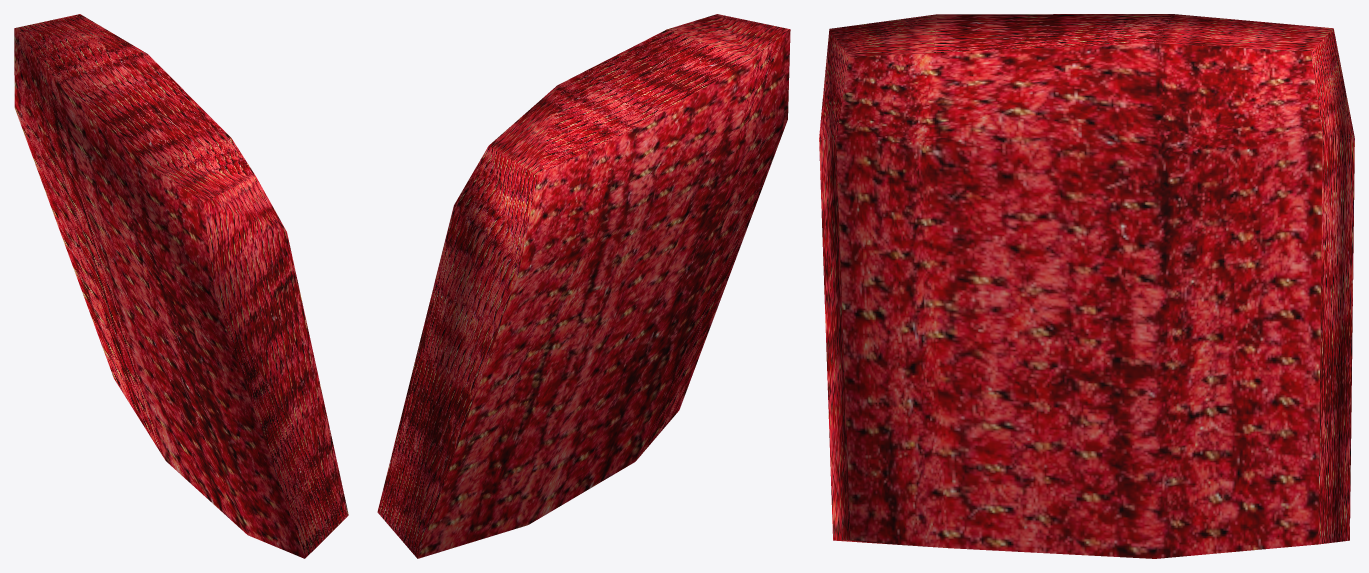
Rendered from Obj_vid_08_coixi_2.fbx.
3 views of the same model, side by side, from view 1: azimuth 30°, elevation 25°; view 2: azimuth 150°, elevation 25°; view 3: azimuth 270°, elevation 25° (orthographic). The views are drawn at different scales.
Visible parts, largest first — view 1: Obj_vid_08_coixi_2; view 2: Obj_vid_08_coixi_2; view 3: Obj_vid_08_coixi_2.
Boxes of the visible parts, box(x1,y1,x2,y2) form: Obj_vid_08_coixi_2: box(14, 14, 348, 558); Obj_vid_08_coixi_2: box(377, 14, 790, 558); Obj_vid_08_coixi_2: box(819, 14, 1354, 558).
Size of the model in its own units: 0.2162 by 0.4356 by 0.4253.
